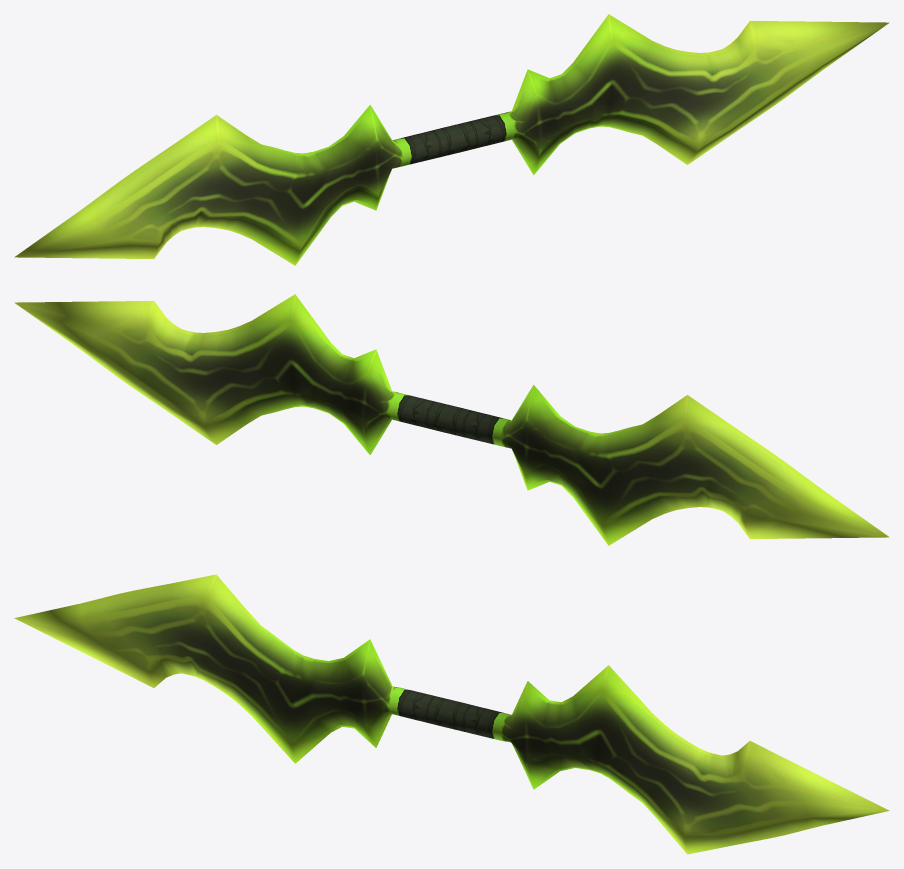
Rendered from item_weachemgm2501-et04.glb.
3 views of the same model, one above another, from view 1: azimuth 30°, elevation 25°; view 2: azimuth 150°, elevation 25°; view 3: azimuth 330°, elevation 25° (orthographic).
Visible parts, largest first — view 1: FlyffMesh; view 2: FlyffMesh; view 3: FlyffMesh.
Boxes of the visible parts, x1,y1,x2,y2 form: FlyffMesh: [14, 14, 889, 265]; FlyffMesh: [14, 294, 889, 545]; FlyffMesh: [14, 574, 889, 854].
Bounding box in the file's own units: 2.09 × 0.3999 × 0.0605.
Materials: 1 (1 with a texture image).
